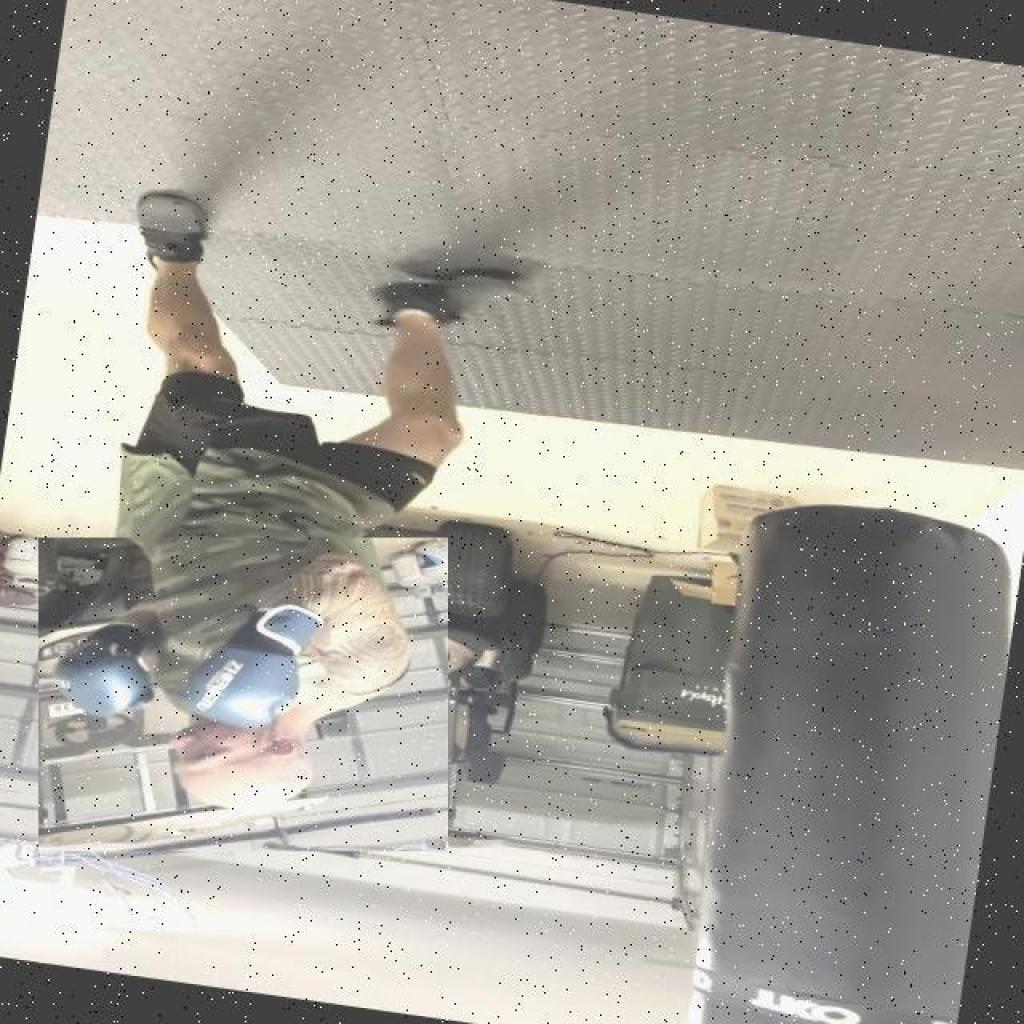bag: (669, 485, 1024, 1024)
no punch: (38, 538, 449, 851)
